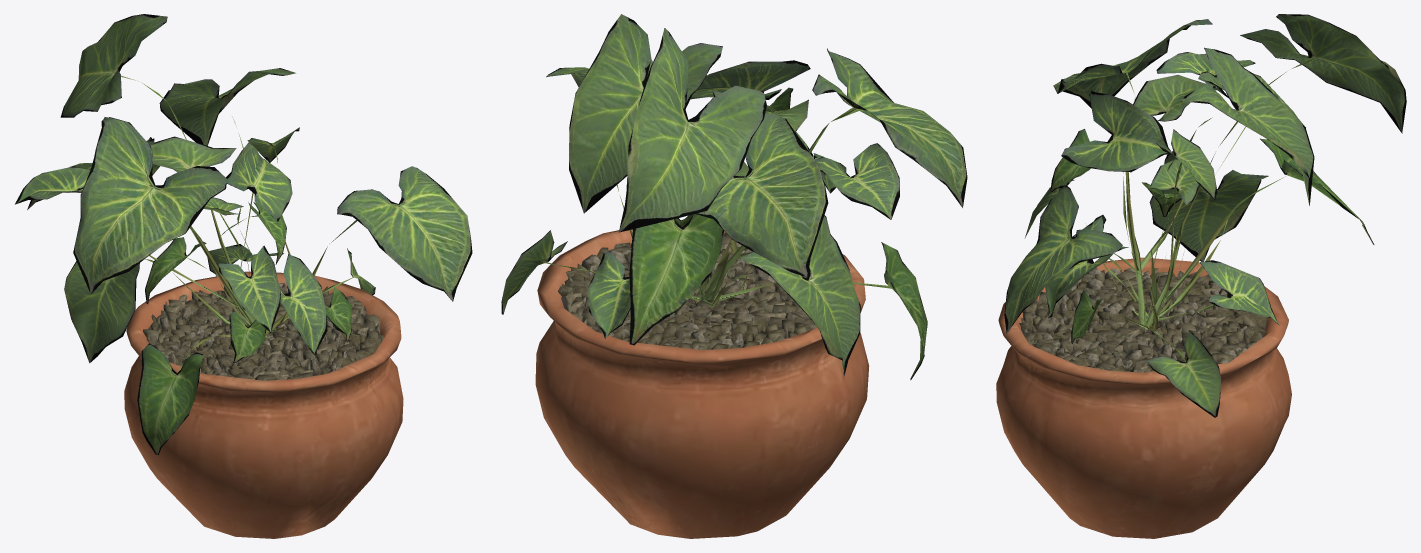
File: potplant2.glb
The picture shows the model from 3 angles, left to right: view 1: azimuth 30°, elevation 25°; view 2: azimuth 150°, elevation 25°; view 3: azimuth 270°, elevation 25°; orthographic projection. The views are drawn at different scales.
Visible parts, largest first — view 1: potted_plant_02_leaves, potted_plant_02_pot; view 2: potted_plant_02_leaves, potted_plant_02_pot; view 3: potted_plant_02_pot, potted_plant_02_leaves.
Part boxes in pixels (x1=…): potted_plant_02_leaves: x1=15, y1=14, x2=472, y2=454; potted_plant_02_pot: x1=124, y1=271, x2=403, y2=538; potted_plant_02_leaves: x1=501, y1=14, x2=967, y2=380; potted_plant_02_pot: x1=535, y1=229, x2=869, y2=538; potted_plant_02_pot: x1=996, y1=257, x2=1291, y2=538; potted_plant_02_leaves: x1=1004, y1=14, x2=1406, y2=417.
Size of the model in its own units: 0.7009 by 0.8401 by 0.6561.
Materials: 2 (2 with a texture image).
